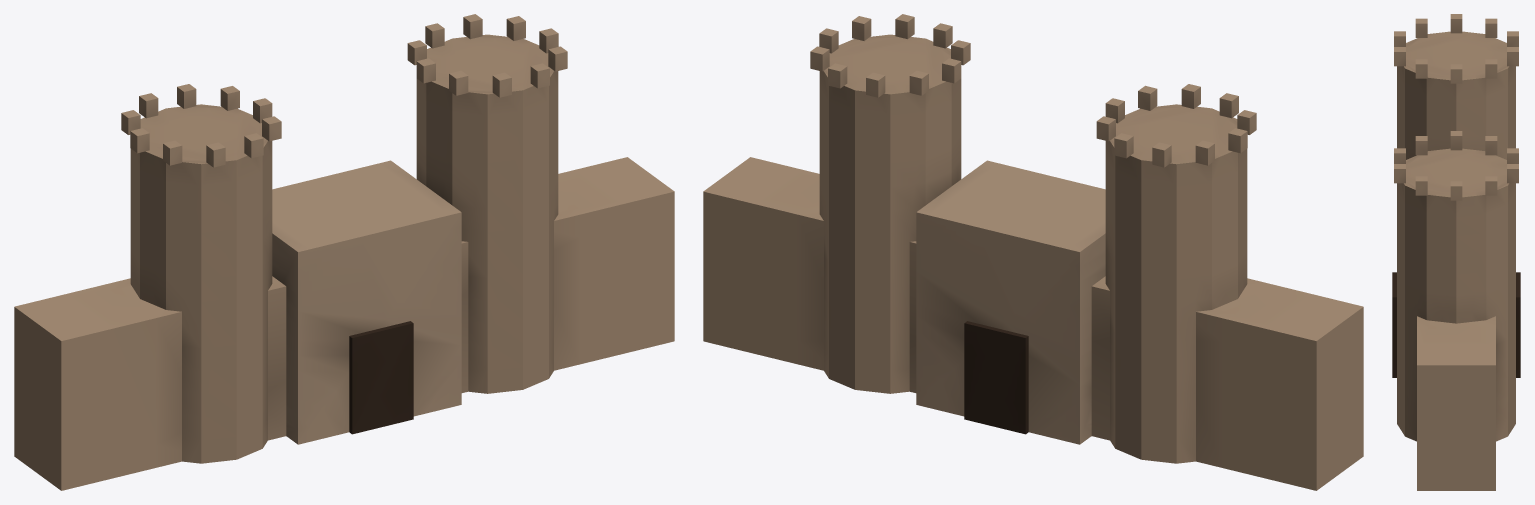
Rendered from porta-appia.glb.
The picture shows the model from 3 angles, left to right: view 1: azimuth 30°, elevation 25°; view 2: azimuth 150°, elevation 25°; view 3: azimuth 270°, elevation 25°; orthographic projection. The views are drawn at different scales.
Visible parts, largest first — view 1: p2_towers, p0_wall, p1_gate; view 2: p2_towers, p0_wall, p1_gate; view 3: p2_towers, p0_wall, p1_gate.
Part boxes in pixels (<box>): p2_towers: <box>121,14,567,463</box>; p0_wall: <box>14,157,674,490</box>; p1_gate: <box>272,160,461,444</box>; p2_towers: <box>810,14,1256,463</box>; p0_wall: <box>703,157,1363,490</box>; p1_gate: <box>916,160,1105,444</box>; p2_towers: <box>1394,14,1518,441</box>; p0_wall: <box>1417,316,1495,490</box>; p1_gate: <box>1392,272,1520,377</box>.
Bounding box in the file's own units: 60 × 29.6 × 13.
